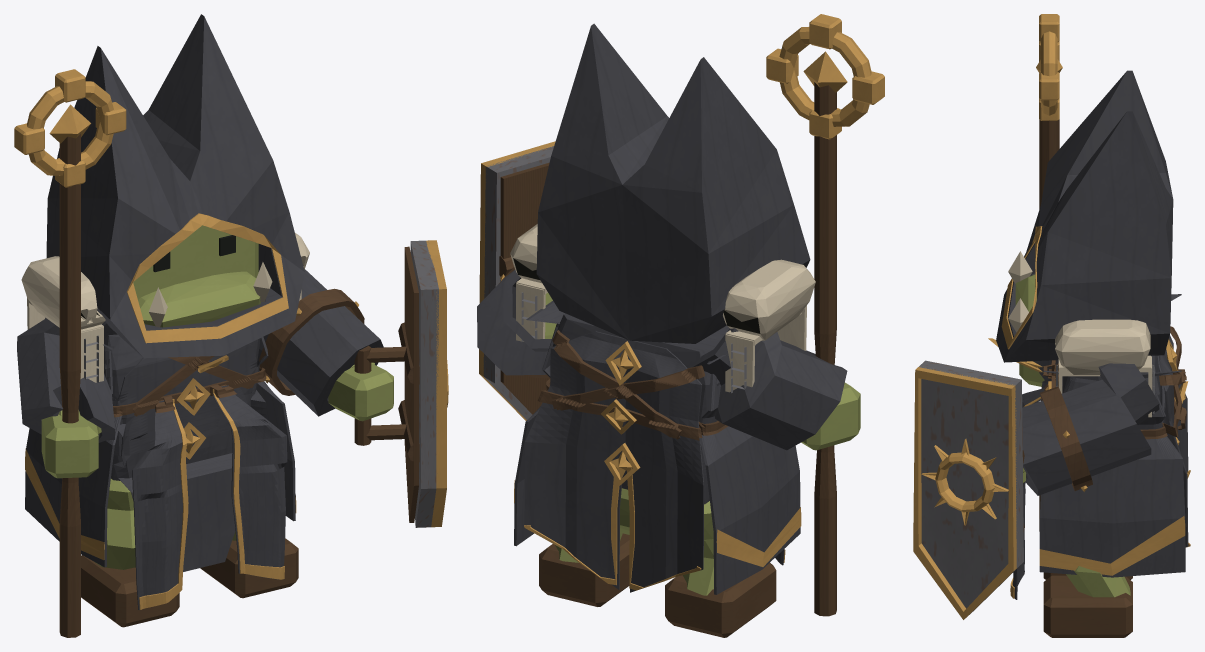
Rendered from host_31.glb.
3 renders of one model, left to right at view 1: azimuth 30°, elevation 25°; view 2: azimuth 150°, elevation 25°; view 3: azimuth 270°, elevation 25°, orthographic. The views are drawn at different scales.
Visible parts, largest first — view 1: Pointed brown hood - hollow outer cloth, V4 actual charcoal center robe under three source seals, RIGHT source staff full actual handle, One continuous source skull, Long source front robe overlap 1, Long source front robe overlap -1, LEFT hollow outer cloth, RIGHT hollow outer cloth, LEFT actual source shield body, V4 source real side falling robe 1, Whole source angular gold face opening perimeter, RIGHT source planted boot (+25 smaller); view 2: Pointed brown hood - hollow outer cloth, Source hanging ragged rear cape, V4 source real side falling robe 1, RIGHT hollow outer cloth, RIGHT source staff full actual handle, Exactly two source shoulder bone talismans 1, RIGHT source planted boot, LEFT hollow outer cloth, LEFT source actual wooden inner shield, LEFT actual source shield body, LEFT source planted boot, Staff compass head real open ring (+20 smaller); view 3: Pointed brown hood - hollow outer cloth, LEFT actual source shield body, V4 source real side falling robe -1, LEFT hollow outer cloth, LEFT source shield outer edge, Exactly two source shoulder bone talismans -1, LEFT source planted boot, Source full side robe gold boundary -1, LEFT actual broad leather forearm shield retaining loop, Source outer shield actual sun ring, Source hanging ragged rear cape, LEFT source short joined leg (+12 smaller).
Part boxes in pixels (bbox=[...]): Pointed brown hood - hollow outer cloth: bbox=[46, 14, 304, 358]; V4 actual charcoal center robe under three source seals: bbox=[113, 344, 266, 571]; RIGHT source staff full actual handle: bbox=[59, 133, 80, 637]; One continuous source skull: bbox=[133, 225, 260, 327]; Long source front robe overlap 1: bbox=[132, 398, 182, 609]; Long source front robe overlap -1: bbox=[212, 385, 287, 579]; LEFT hollow outer cloth: bbox=[263, 269, 383, 416]; RIGHT hollow outer cloth: bbox=[17, 317, 117, 442]; LEFT actual source shield body: bbox=[410, 240, 438, 527]; V4 source real side falling robe 1: bbox=[25, 344, 121, 567]; Whole source angular gold face opening perimeter: bbox=[127, 213, 288, 343]; RIGHT source planted boot: bbox=[81, 555, 179, 627]; Pointed brown hood - hollow outer cloth: bbox=[536, 23, 810, 343]; Source hanging ragged rear cape: bbox=[524, 331, 704, 592]; V4 source real side falling robe 1: bbox=[700, 354, 800, 594]; RIGHT hollow outer cloth: bbox=[687, 328, 847, 450]; RIGHT source staff full actual handle: bbox=[814, 82, 836, 616]; Exactly two source shoulder bone talismans 1: bbox=[723, 259, 815, 340]; RIGHT source planted boot: bbox=[665, 563, 776, 637]; LEFT hollow outer cloth: bbox=[477, 270, 551, 375]; LEFT source actual wooden inner shield: bbox=[500, 162, 549, 414]; LEFT actual source shield body: bbox=[483, 146, 553, 419]; LEFT source planted boot: bbox=[539, 533, 629, 606]; Staff compass head real open ring: bbox=[779, 27, 871, 126]; Pointed brown hood - hollow outer cloth: bbox=[996, 70, 1173, 362]; LEFT actual source shield body: bbox=[919, 360, 1023, 614]; V4 source real side falling robe -1: bbox=[1039, 370, 1185, 577]; LEFT hollow outer cloth: bbox=[1022, 363, 1159, 495]; LEFT source shield outer edge: bbox=[913, 367, 1016, 619]; Exactly two source shoulder bone talismans -1: bbox=[1055, 319, 1150, 376]; LEFT source planted boot: bbox=[1043, 575, 1132, 637]; Source full side robe gold boundary -1: bbox=[1039, 516, 1185, 575]; LEFT actual broad leather forearm shield retaining loop: bbox=[1040, 386, 1092, 490]; Source outer shield actual sun ring: bbox=[935, 452, 995, 512]; Source hanging ragged rear cape: bbox=[1157, 335, 1188, 547]; LEFT source short joined leg: bbox=[1066, 566, 1130, 597].
Bounding box in the file's own units: 1.4 × 1.9 × 0.92.
Materials: 12 (9 with a texture image).
